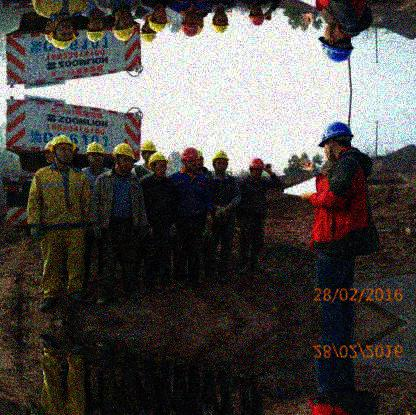helmet: (317, 23, 358, 66), (317, 120, 355, 161), (108, 13, 138, 44), (48, 137, 77, 167), (112, 142, 136, 173), (84, 16, 107, 46), (151, 6, 173, 34), (57, 18, 77, 48), (182, 11, 205, 37), (211, 10, 231, 35), (86, 141, 105, 167), (248, 3, 267, 29), (180, 147, 199, 171), (40, 23, 58, 48), (246, 157, 265, 180), (211, 150, 228, 174), (148, 157, 168, 177), (41, 145, 56, 166), (139, 23, 155, 42), (142, 141, 155, 161)
